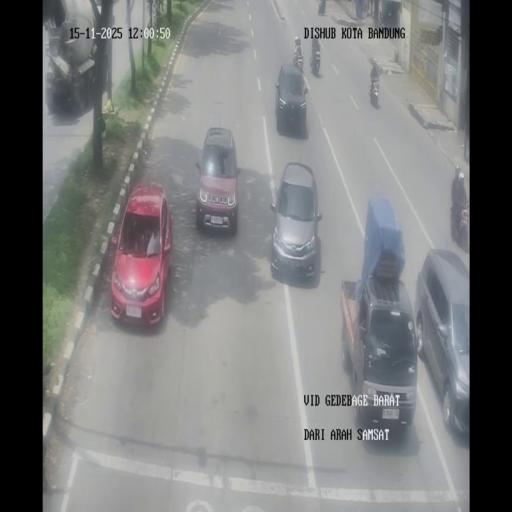3: (342, 200, 418, 432)
car: (414, 252, 470, 440), (110, 184, 173, 328), (270, 160, 320, 282), (274, 63, 308, 138)
truck: (450, 196, 470, 252), (309, 43, 321, 77), (369, 73, 380, 108), (292, 47, 304, 71), (362, 0, 370, 17), (318, 0, 326, 15), (378, 9, 384, 23)
